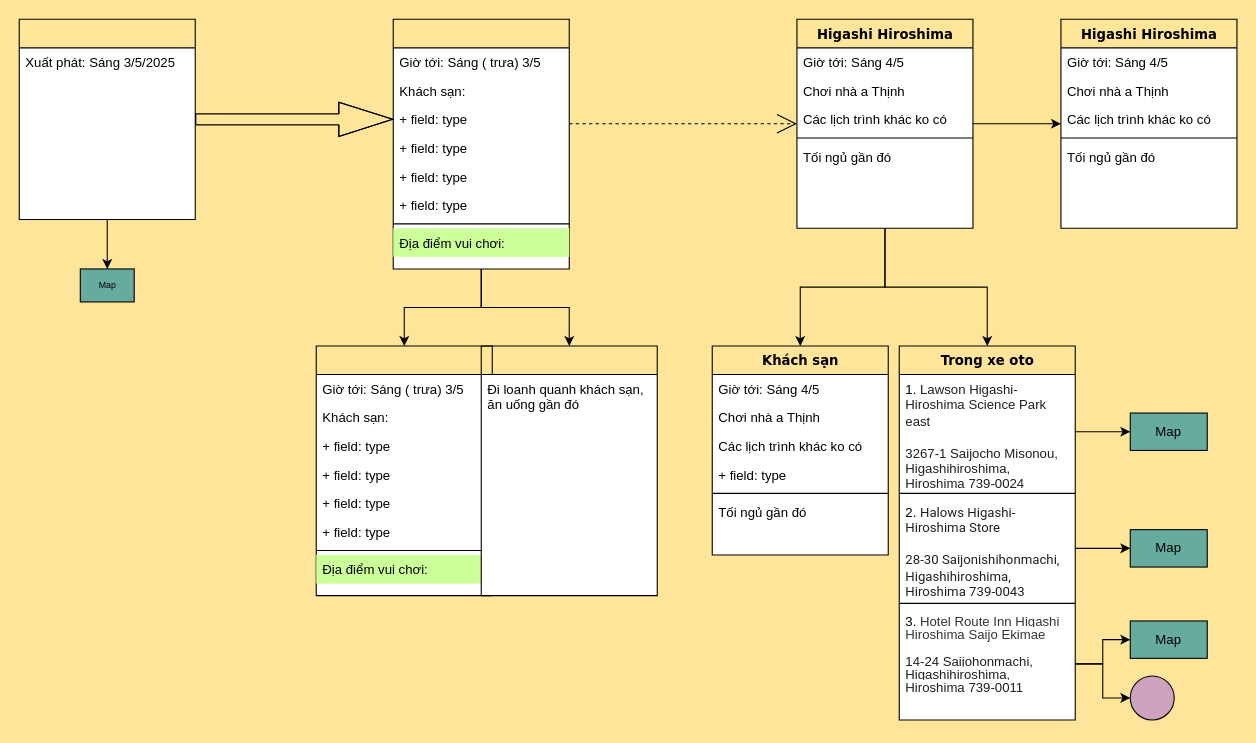
The diagram is 1256 pixels wide and 743 high, and some of its shapes have lost their labels. Here are the shapes that lost their labels. From the top down, the box of each, then its label:
(18, 18, 195, 219): Xuất phát: Hakata
(392, 18, 569, 269): Hiroshima
(315, 345, 492, 596): Ban ngày
(480, 345, 657, 596): Đêm
(1129, 675, 1174, 720): Web
